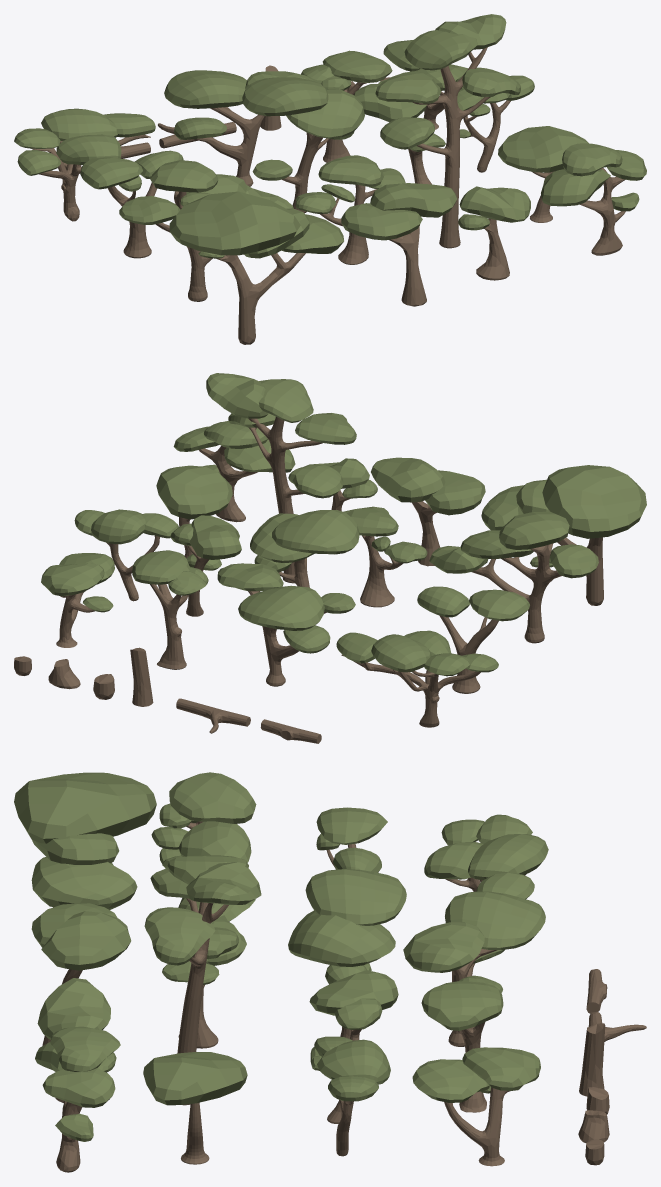
File: objetos arboles.fbx
3 views of the same model, one above another, from view 1: azimuth 30°, elevation 25°; view 2: azimuth 150°, elevation 25°; view 3: azimuth 270°, elevation 25° (orthographic). The views are drawn at different scales.
Visible parts, largest first — view 1: Cube.039_102, Cube.023_86, Cube.046_54, Cube.011_74, Cube.074_57, Cube.047_55, Cube.002_45, Cube.008_71, Cube.003_44, Cube.071_91, Cube.006_69, Cube.016_79 (+37 smaller); view 2: Cube.039_102, Cube.011_74, Cube.046_54, Cube.074_57, Cube.002_45, Cube.029_92, Cube.023_86, Cube.033_96, Cube.026_88, Cube.050_43, Cube.071_91, Cube.003_44 (+43 smaller); view 3: Cube.039_102, Cube.046_54, Cube.011_74, Cube.047_55, Cube.074_57, Cube.009_72, Cube.002_45, Cube.033_96, Cube.076_59, Cube.025_61, Cube.006_69, Cube.027_89 (+37 smaller).
Part boxes in pixels (bbox=[...]): Cube.039_102: bbox=[169, 191, 300, 255]; Cube.023_86: bbox=[412, 47, 490, 248]; Cube.046_54: bbox=[242, 77, 328, 116]; Cube.011_74: bbox=[498, 126, 588, 172]; Cube.074_57: bbox=[164, 70, 246, 108]; Cube.047_55: bbox=[286, 89, 364, 138]; Cube.002_45: bbox=[370, 183, 457, 217]; Cube.008_71: bbox=[216, 253, 305, 344]; Cube.003_44: bbox=[341, 203, 422, 240]; Cube.071_91: bbox=[404, 30, 477, 70]; Cube.006_69: bbox=[459, 186, 530, 222]; Cube.016_79: bbox=[541, 169, 610, 206]; Cube.039_102: bbox=[542, 465, 646, 538]; Cube.011_74: bbox=[156, 465, 232, 519]; Cube.046_54: bbox=[272, 510, 359, 554]; Cube.074_57: bbox=[238, 585, 324, 630]; Cube.002_45: bbox=[371, 457, 445, 502]; Cube.029_92: bbox=[472, 543, 561, 643]; Cube.023_86: bbox=[248, 417, 322, 583]; Cube.033_96: bbox=[499, 511, 569, 549]; Cube.026_88: bbox=[206, 373, 268, 418]; Cube.050_43: bbox=[189, 515, 241, 559]; Cube.071_91: bbox=[259, 379, 313, 422]; Cube.003_44: bbox=[425, 470, 485, 515]; Cube.039_102: bbox=[14, 772, 156, 843]; Cube.046_54: bbox=[305, 869, 406, 925]; Cube.011_74: bbox=[143, 1052, 247, 1105]; Cube.047_55: bbox=[288, 910, 395, 966]; Cube.074_57: bbox=[445, 891, 545, 949]; Cube.009_72: bbox=[31, 856, 137, 909]; Cube.002_45: bbox=[41, 911, 131, 970]; Cube.033_96: bbox=[169, 772, 256, 823]; Cube.076_59: bbox=[403, 922, 484, 972]; Cube.025_61: bbox=[421, 981, 503, 1030]; Cube.006_69: bbox=[37, 978, 110, 1039]; Cube.027_89: bbox=[144, 907, 215, 965].
Size of the model in its own units: 8996 by 3753 by 8509.
